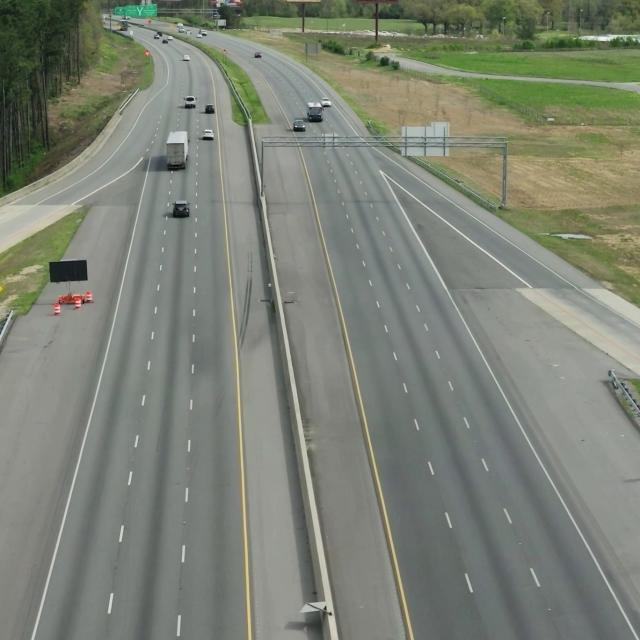Vehicle: (162, 130, 193, 174), (169, 196, 192, 222)
